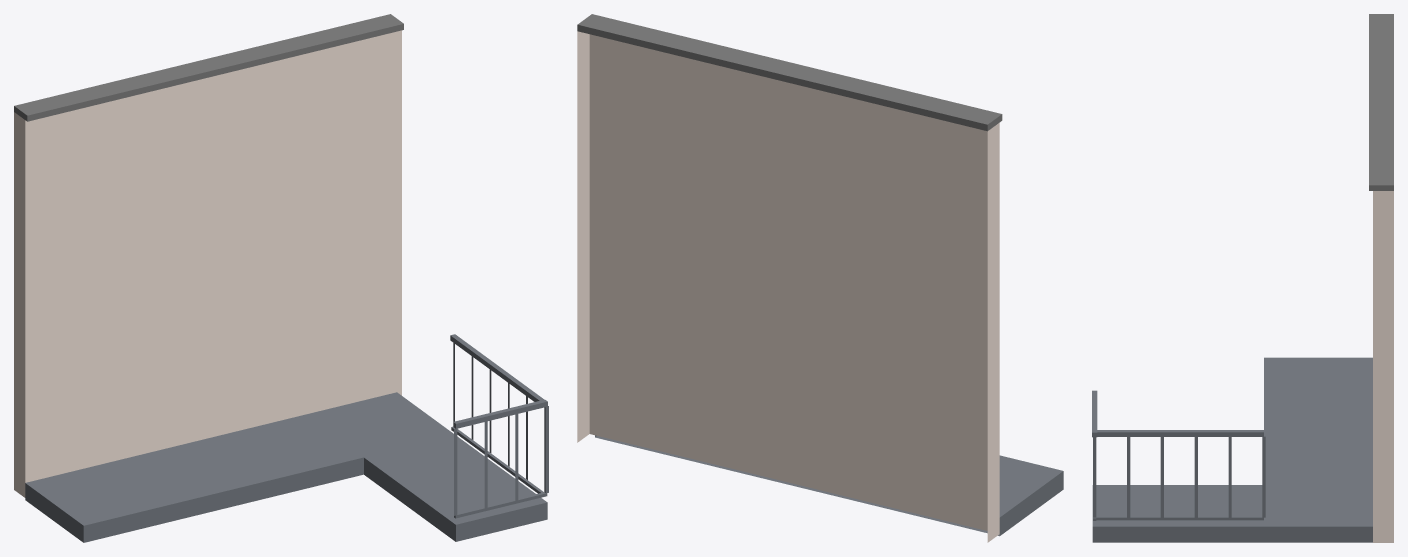
Rendered from top-stair3.fbx.
The picture shows the model from 3 angles, left to right: view 1: azimuth 30°, elevation 25°; view 2: azimuth 150°, elevation 25°; view 3: azimuth 270°, elevation 25°; orthographic projection. The views are drawn at different scales.
Visible parts, largest first — view 1: a2001/200/top-stair; view 2: a2001/200/top-stair; view 3: a2001/200/top-stair.
Boxes of the visible parts, box(x1,y1,x2,y2) form: a2001/200/top-stair: box(14, 14, 548, 542); a2001/200/top-stair: box(577, 14, 1063, 542); a2001/200/top-stair: box(1092, 14, 1393, 542).
Bounding box in the file's own units: 3.9 × 3.82 × 2.91.
